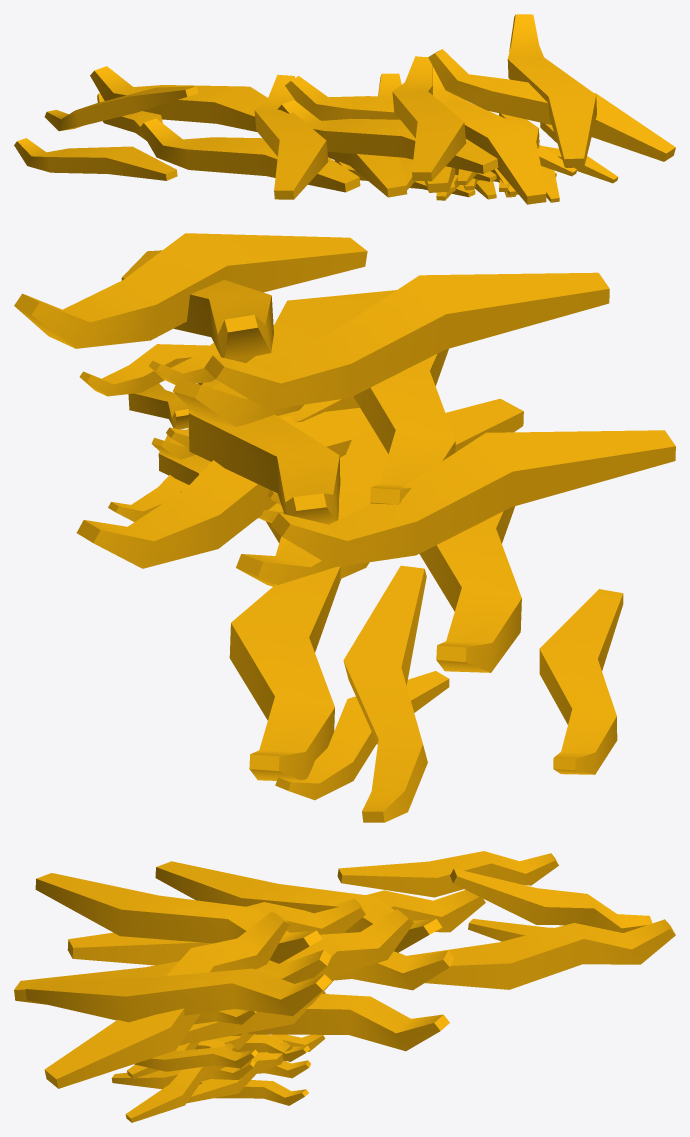
The model's file is IkanBilis.fbx.
3 views of the same model, one above another, from view 1: azimuth 30°, elevation 25°; view 2: azimuth 150°, elevation 25°; view 3: azimuth 270°, elevation 25° (orthographic). The views are drawn at different scales.
Visible parts, largest first — view 1: IkanBilis; view 2: IkanBilis; view 3: IkanBilis.
Part boxes in pixels (<box>): IkanBilis: <box>14,14,675,204</box>; IkanBilis: <box>14,233,675,822</box>; IkanBilis: <box>14,851,675,1122</box>.
Size of the model in its own units: 29.69 by 8.11 by 31.06.
